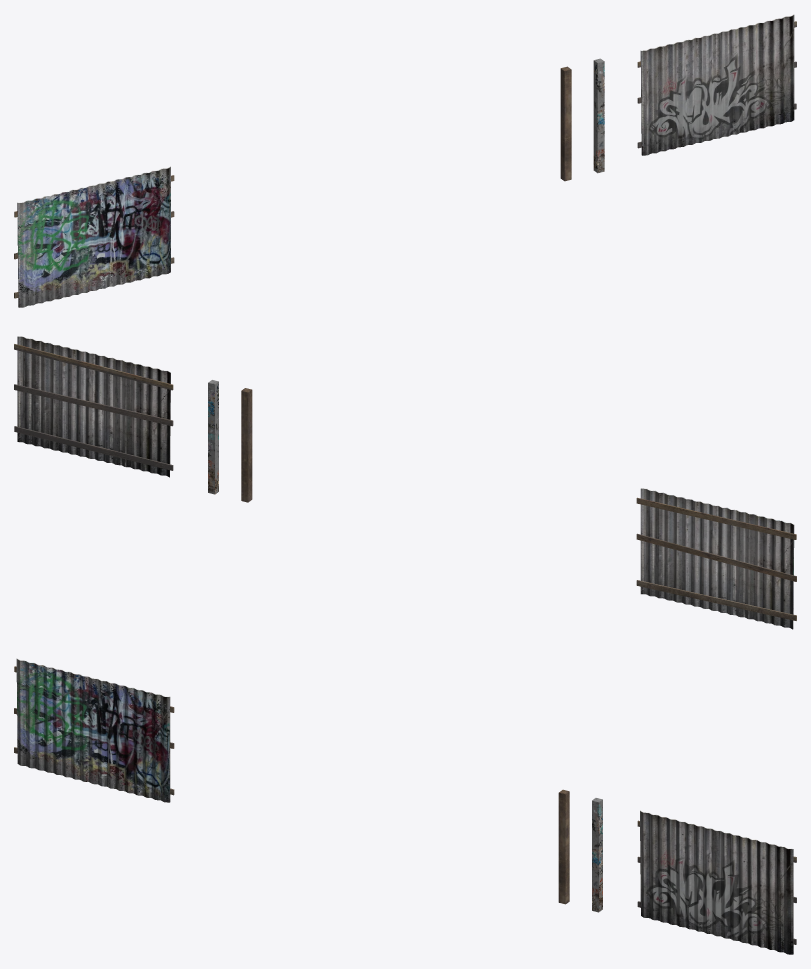
Rendered from cx_fence.a791224277.glb.
3 views of the same model, one above another, from view 1: azimuth 30°, elevation 25°; view 2: azimuth 150°, elevation 25°; view 3: azimuth 330°, elevation 25° (orthographic).
Visible parts, largest first — view 1: PanelStyle_A, PanelStyle_B, Post_wood, Post_concrete; view 2: PanelStyle_B, PanelStyle_A, Post_wood, Post_concrete; view 3: PanelStyle_B, PanelStyle_A, Post_wood, Post_concrete.
Boxes of the visible parts, x1,y1,x2,y2 form: PanelStyle_A: (637,14,796,155); PanelStyle_B: (14,166,174,307); Post_wood: (560,66,571,181); Post_concrete: (593,58,604,173); PanelStyle_B: (636,488,796,629); PanelStyle_A: (14,336,173,477); Post_wood: (241,388,252,502); Post_concrete: (208,380,218,494); PanelStyle_B: (14,658,174,802); PanelStyle_A: (637,810,796,954); Post_wood: (558,789,569,904); Post_concrete: (592,798,602,912).
Bounding box in the file's own units: 19.71 × 2.65 × 0.7759.
Materials: 13 (13 with a texture image).
